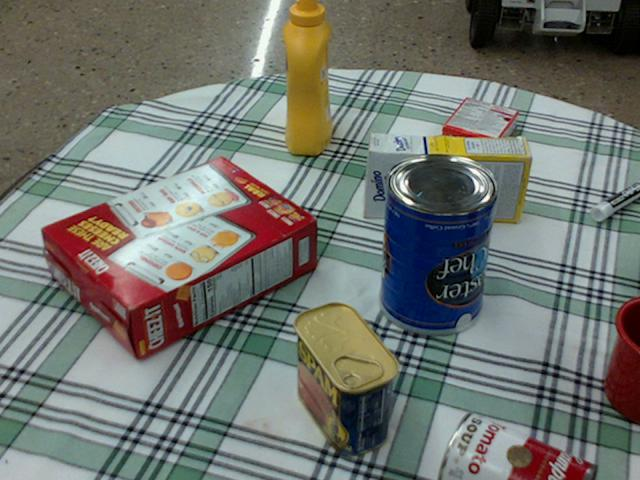cracker_box: (41, 158, 314, 358)
gelatin_box: (440, 97, 517, 158)
large_marker: (590, 181, 639, 220)
master_chef_can: (379, 152, 500, 333)
mug: (603, 296, 639, 424)
mustard_bottle: (281, 0, 330, 154)
potted_meat_can: (293, 302, 399, 455)
sugar_box: (363, 134, 531, 222)
tomato_soup_can: (439, 413, 598, 479)
